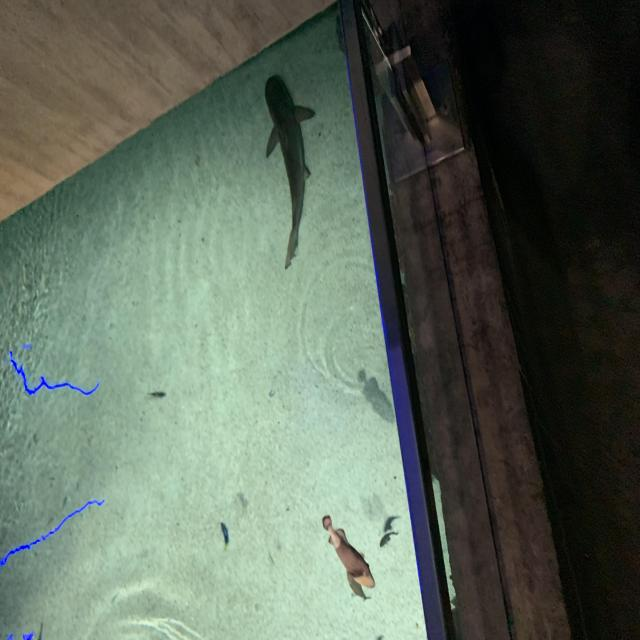fish: (317, 511, 378, 597), (354, 366, 396, 432), (347, 571, 369, 604), (218, 522, 233, 554), (144, 388, 167, 402)
shark: (264, 76, 316, 270)
